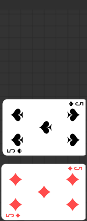5C: (5, 148, 23, 155)
